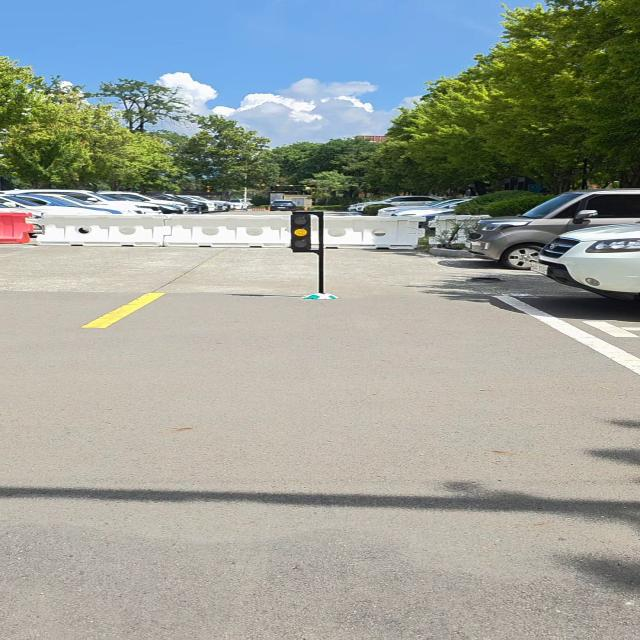yellow: (290, 214, 312, 251)
